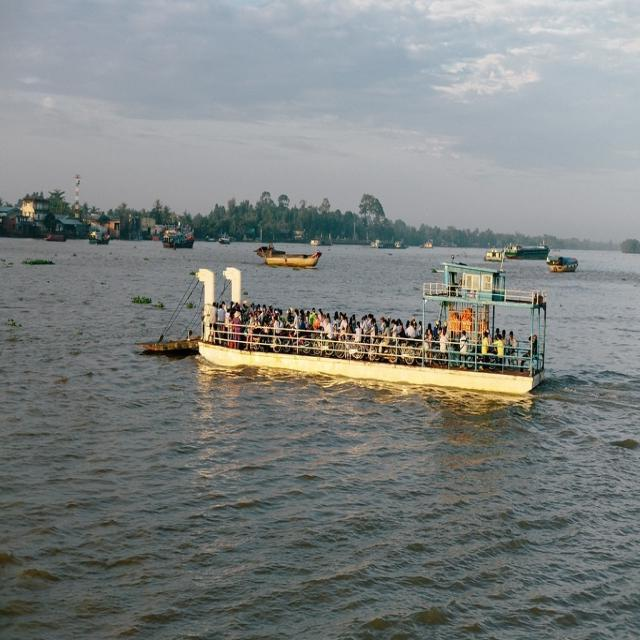Hyacinth: (124, 286, 152, 314), (16, 257, 54, 270), (5, 318, 22, 331), (184, 299, 199, 312), (141, 253, 152, 266), (70, 249, 79, 262), (154, 301, 166, 310), (188, 270, 198, 276)
boat: (197, 316, 545, 399), (433, 263, 505, 306), (496, 236, 548, 266), (257, 246, 324, 268), (540, 249, 584, 275), (157, 224, 197, 250), (84, 226, 118, 253), (369, 241, 400, 250), (218, 232, 230, 245), (422, 238, 432, 250)
